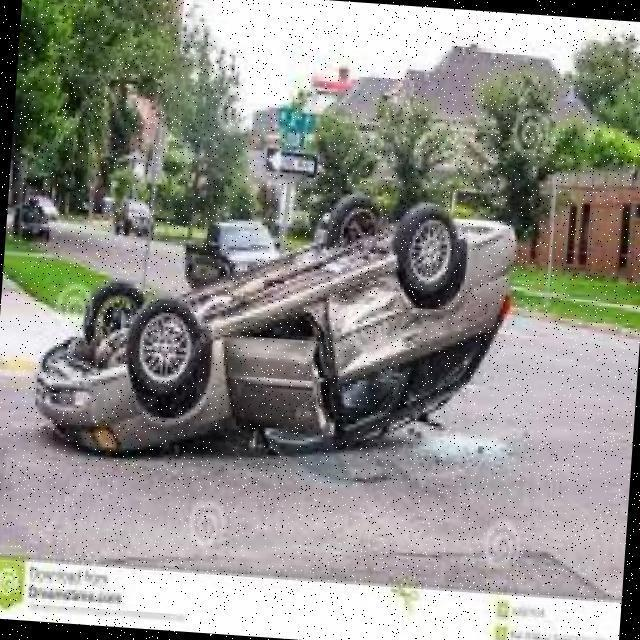accident: (27, 164, 525, 490)
